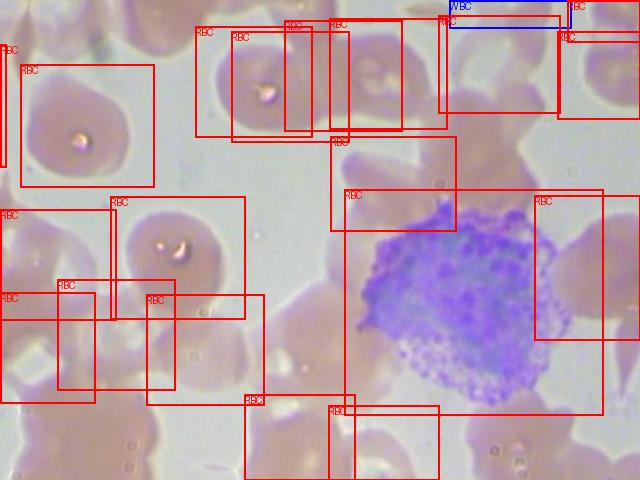RBC: (344, 189, 603, 415), (110, 196, 245, 319), (20, 64, 154, 187), (534, 195, 640, 340), (146, 294, 264, 405), (57, 279, 175, 390), (231, 31, 349, 142), (284, 20, 402, 131), (329, 18, 447, 129), (195, 26, 312, 137), (0, 209, 116, 320), (330, 136, 456, 231), (438, 15, 560, 113), (0, 292, 95, 403), (244, 394, 355, 480), (328, 405, 439, 480), (557, 31, 640, 119), (567, 0, 640, 42), (0, 44, 6, 167)
WBC: (449, 0, 571, 28)
